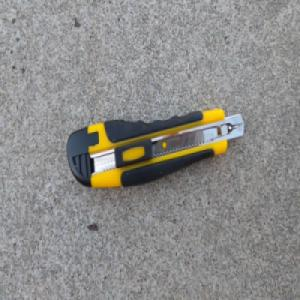Cutter: (65, 108, 245, 191)
